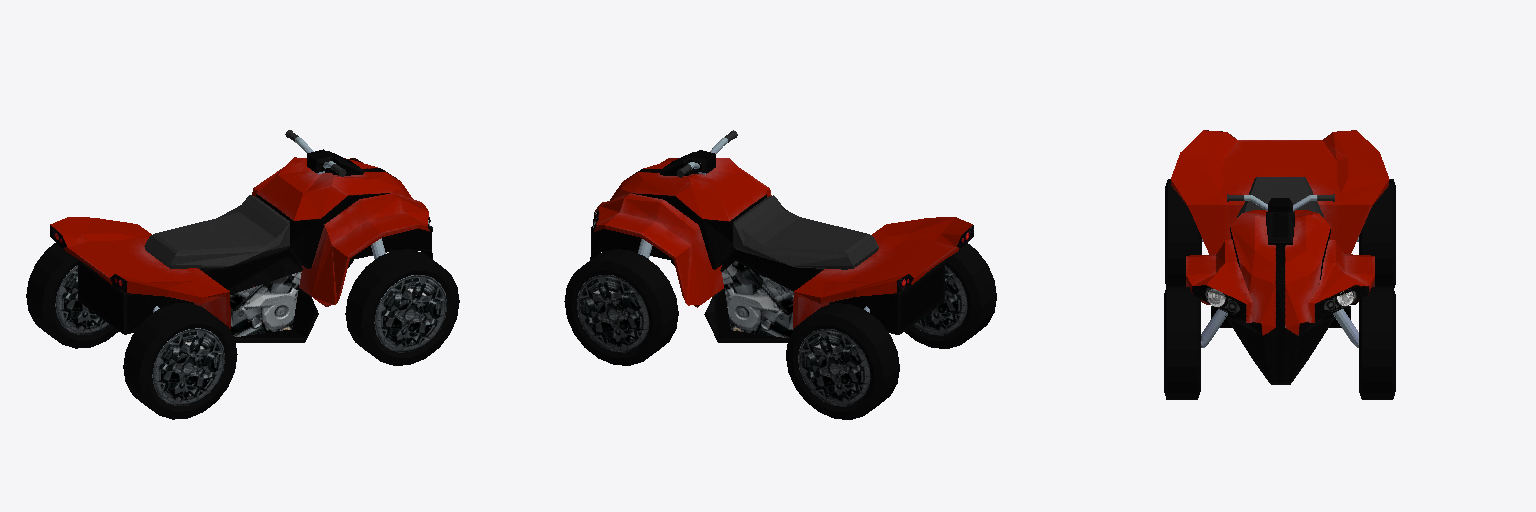
3 renders of one model, left to right at view 1: azimuth 30°, elevation 25°; view 2: azimuth 150°, elevation 25°; view 3: azimuth 270°, elevation 25°, orthographic.
Visible parts, largest first — view 1: wheels quadbike wheels wheel2, wheels quadbike wheels wheel1, quadbike rearSection rear, quadbike frontSection frontCenter, quadbike middleSection seat, quadbike frontSection frontLaterals, wheels quadbike wheels wheel3, quadbike middleSection motor, quadbike compartment rearSection, quadbike center middleSection, quadbike middleSection bottomCover; view 2: wheels quadbike wheel4 wheels, wheels quadbike wheels wheel3, quadbike rearSection rear, quadbike frontSection frontCenter, quadbike middleSection seat, quadbike frontSection frontLaterals, wheels quadbike wheels wheel2, quadbike middleSection motor, quadbike compartment rearSection, quadbike center middleSection, quadbike middleSection bottomCover; view 3: quadbike rearSection rear, quadbike frontSection frontCenter, quadbike frontSection frontLaterals, wheels quadbike wheels wheel1, wheels quadbike wheel4 wheels, wheels quadbike wheels wheel3, wheels quadbike wheels wheel2, quadbike middleSection seat, quadbike handlebars frontSection handlebarsCover, quadbike handlebars frontSection handlebars.
Part boxes in pixels (x1,y1,x2,y2): wheels quadbike wheels wheel2: (123, 303, 237, 419); wheels quadbike wheels wheel1: (345, 249, 459, 365); quadbike rearSection rear: (50, 217, 230, 328); quadbike frontSection frontCenter: (256, 157, 432, 268); quadbike middleSection seat: (144, 195, 289, 268); quadbike frontSection frontLaterals: (252, 158, 430, 306); wheels quadbike wheels wheel3: (26, 243, 118, 348); quadbike middleSection motor: (230, 272, 301, 336); quadbike compartment rearSection: (78, 260, 193, 334); quadbike center middleSection: (200, 247, 302, 294); quadbike middleSection bottomCover: (234, 288, 318, 342); wheels quadbike wheel4 wheels: (564, 249, 678, 365); wheels quadbike wheels wheel3: (786, 303, 899, 419); quadbike rearSection rear: (793, 217, 973, 328); quadbike frontSection frontCenter: (590, 158, 766, 269); quadbike middleSection seat: (733, 195, 878, 269); quadbike frontSection frontLaterals: (593, 158, 771, 307); wheels quadbike wheels wheel2: (905, 243, 996, 348); quadbike middleSection motor: (722, 261, 793, 337); quadbike compartment rearSection: (829, 260, 944, 334); quadbike center middleSection: (720, 246, 823, 291); quadbike middleSection bottomCover: (704, 289, 788, 342); quadbike rearSection rear: (1171, 130, 1389, 253); quadbike frontSection frontCenter: (1225, 210, 1335, 384); quadbike frontSection frontLaterals: (1186, 239, 1374, 322); wheels quadbike wheels wheel1: (1164, 287, 1200, 399); wheels quadbike wheel4 wheels: (1359, 287, 1395, 399); wheels quadbike wheels wheel3: (1359, 179, 1395, 287); wheels quadbike wheels wheel2: (1165, 179, 1201, 286); quadbike middleSection seat: (1237, 177, 1323, 217); quadbike handlebars frontSection handlebarsCover: (1266, 212, 1294, 244); quadbike handlebars frontSection handlebars: (1227, 194, 1334, 211).
Bounding box in the file's own units: 3.93 × 1.98 × 2.29.
Materials: 1 (1 with a texture image).